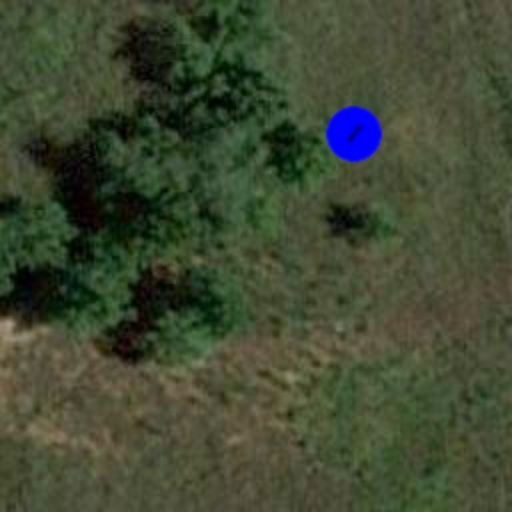circle: (316, 96, 392, 172)
